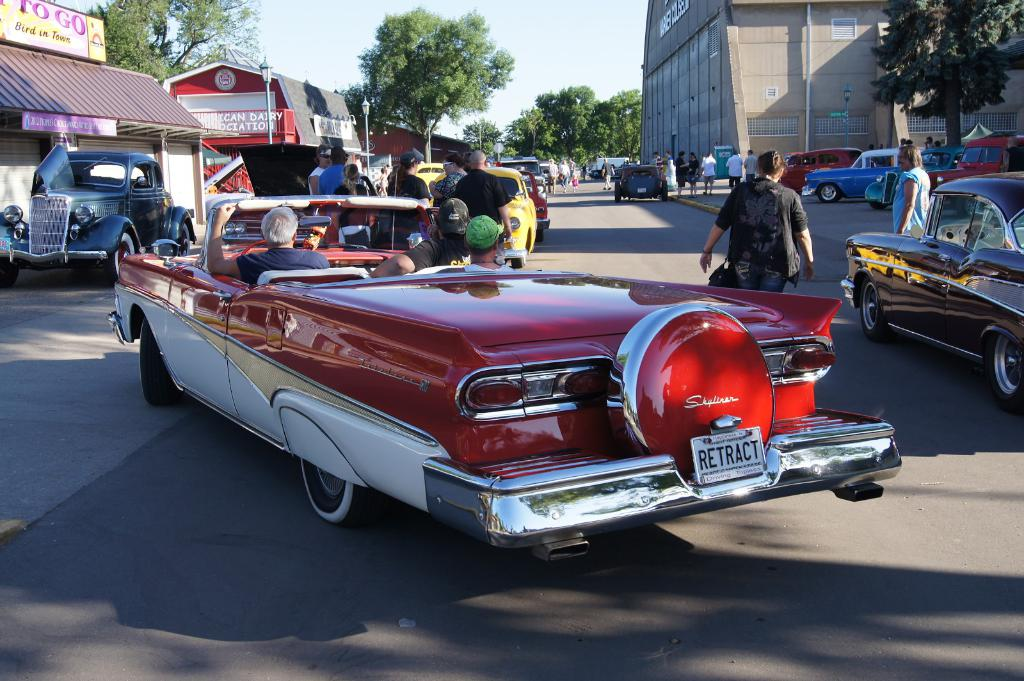Car: (121, 222, 904, 564), (778, 135, 1023, 408), (0, 148, 192, 277), (410, 153, 558, 245), (612, 161, 667, 198)
